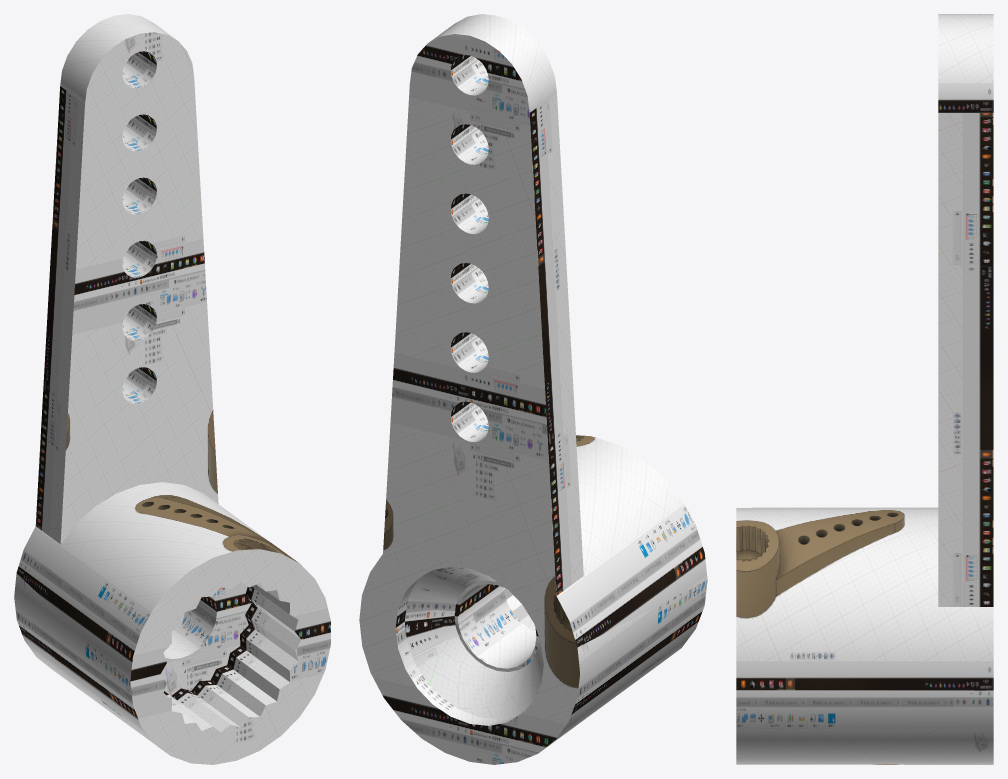
File: ServoArm01.glb
The picture shows the model from 3 angles, left to right: view 1: azimuth 30°, elevation 25°; view 2: azimuth 150°, elevation 25°; view 3: azimuth 270°, elevation 25°; orthographic projection. The views are drawn at different scales.
Visible parts, largest first — view 1: SG90_Arm_01_Custom; view 2: SG90_Arm_01_Custom; view 3: SG90_Arm_01_Custom.
Boxes of the visible parts, <box> form: SG90_Arm_01_Custom: <box>14,14,330,764</box>; SG90_Arm_01_Custom: <box>359,14,707,764</box>; SG90_Arm_01_Custom: <box>736,14,993,764</box>.
Bounding box in the file's own units: 7 × 22 × 7.
1 material, 1 textured.
